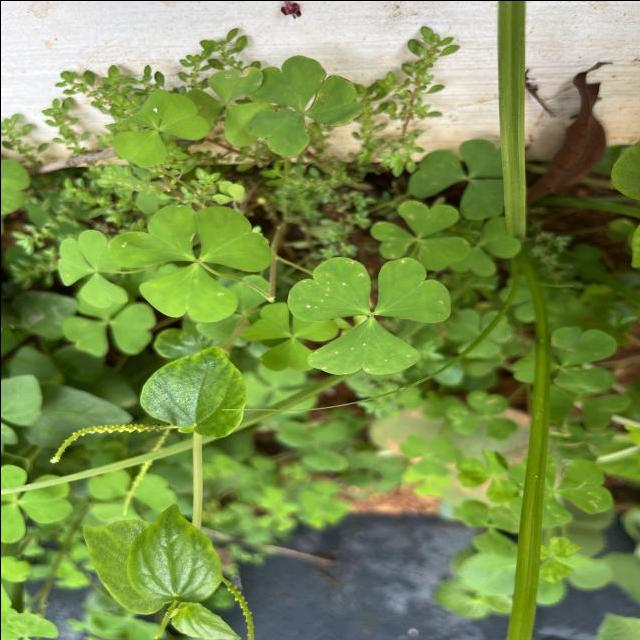Oxalis corniculata: (283, 254, 451, 376), (115, 202, 272, 324), (242, 53, 362, 160), (110, 86, 210, 169), (367, 199, 470, 272), (56, 228, 129, 308)
